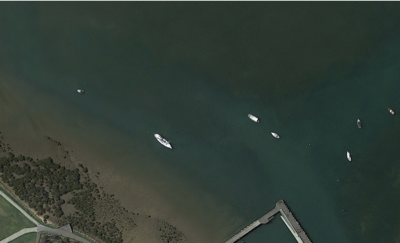boat: (153, 132, 175, 151), (247, 113, 261, 123), (385, 106, 396, 116), (270, 131, 281, 139), (357, 116, 363, 129), (346, 150, 353, 161), (77, 89, 85, 94)
